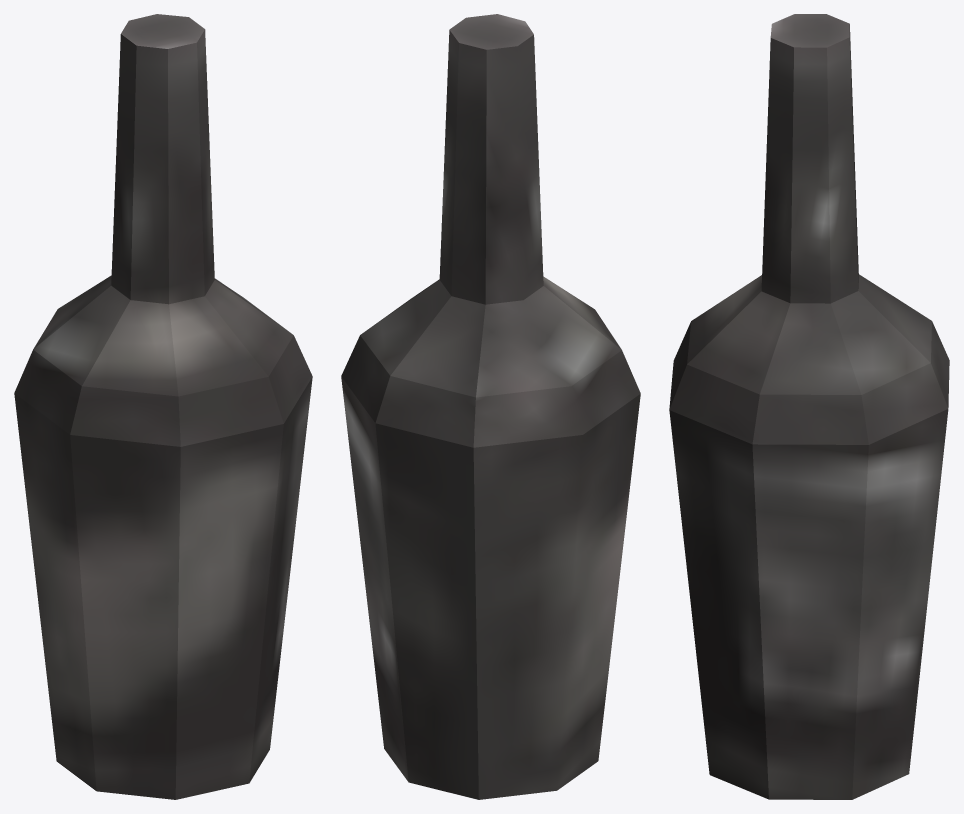
The model's file is sc_heishi_jiuping_001.FBX.
3 views of the same model, side by side, from view 1: azimuth 30°, elevation 25°; view 2: azimuth 150°, elevation 25°; view 3: azimuth 270°, elevation 25° (orthographic).
Parts seen in each view (by area): view 1: sc_heishi_jiuping_001; view 2: sc_heishi_jiuping_001; view 3: sc_heishi_jiuping_001.
Part boxes in pixels (<box>): sc_heishi_jiuping_001: <box>14,14,312,799</box>; sc_heishi_jiuping_001: <box>341,14,640,799</box>; sc_heishi_jiuping_001: <box>669,14,949,799</box>.
Bounding box in the file's own units: 0.1417 × 0.4038 × 0.1412.
1 material, 1 textured.
